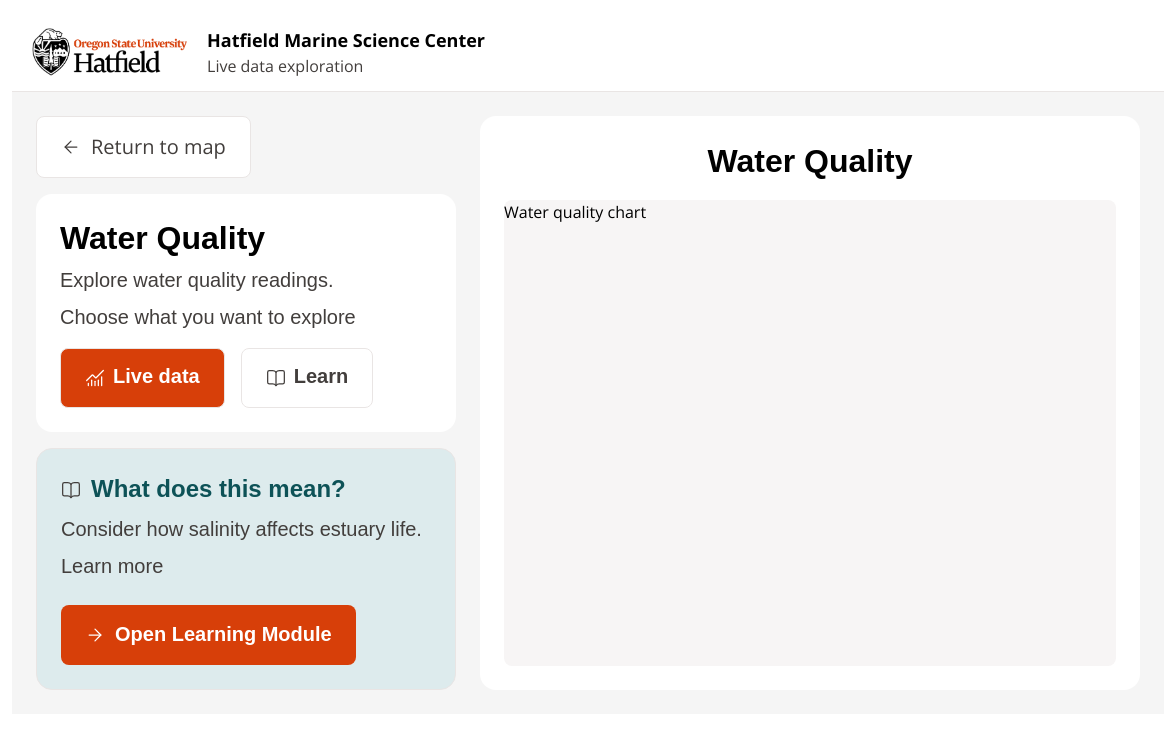
ModulePage › navigates to the learning page from the module header
Click the button "Learn".
click(307, 378)  # box [241,348,373,408]
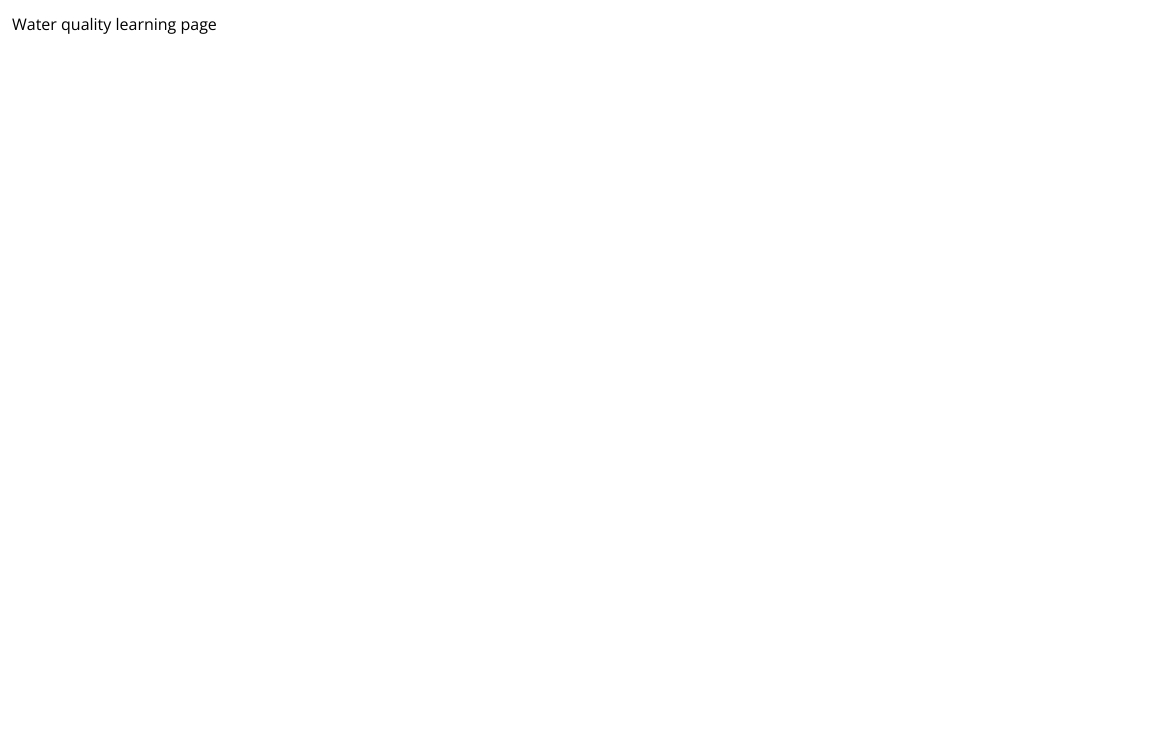
Result: the text "Water quality learning page" is shown at [12,13,217,35]
